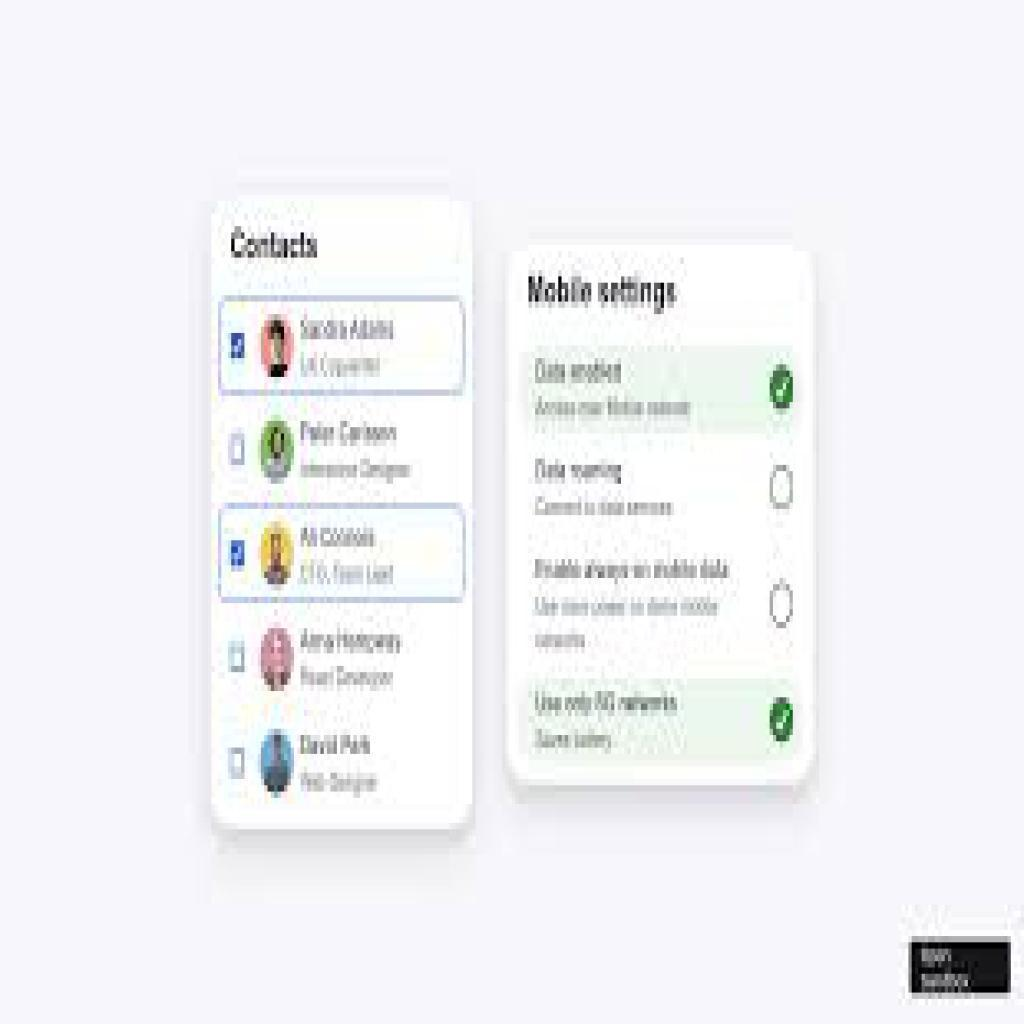checkbox: (768, 695, 798, 746), (769, 463, 799, 513), (770, 360, 798, 413), (769, 578, 796, 629), (228, 431, 247, 469), (228, 539, 249, 573), (230, 331, 249, 359), (229, 747, 245, 779), (230, 643, 245, 676)
